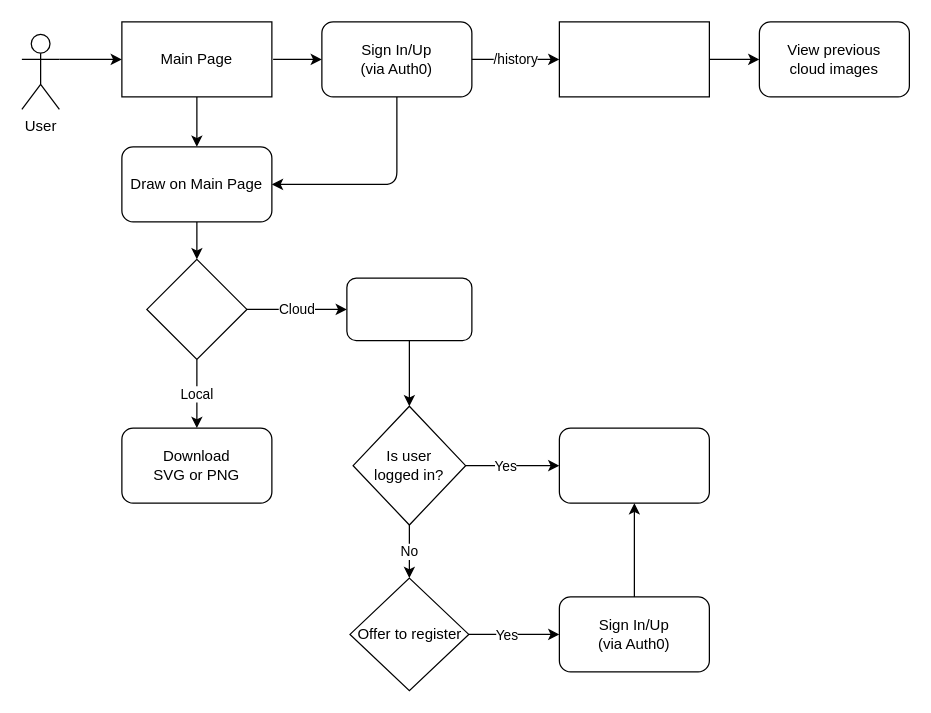
The diagram is 931 pixels wide and 713 high, and some of its shapes have lost their labels. Each missing label, with the box of its shape:
Get a link to share with others: (346, 277, 472, 341)
History Page: (558, 21, 709, 97)
Save image to upload history: (558, 427, 709, 503)
Save Method?: (146, 258, 247, 359)
